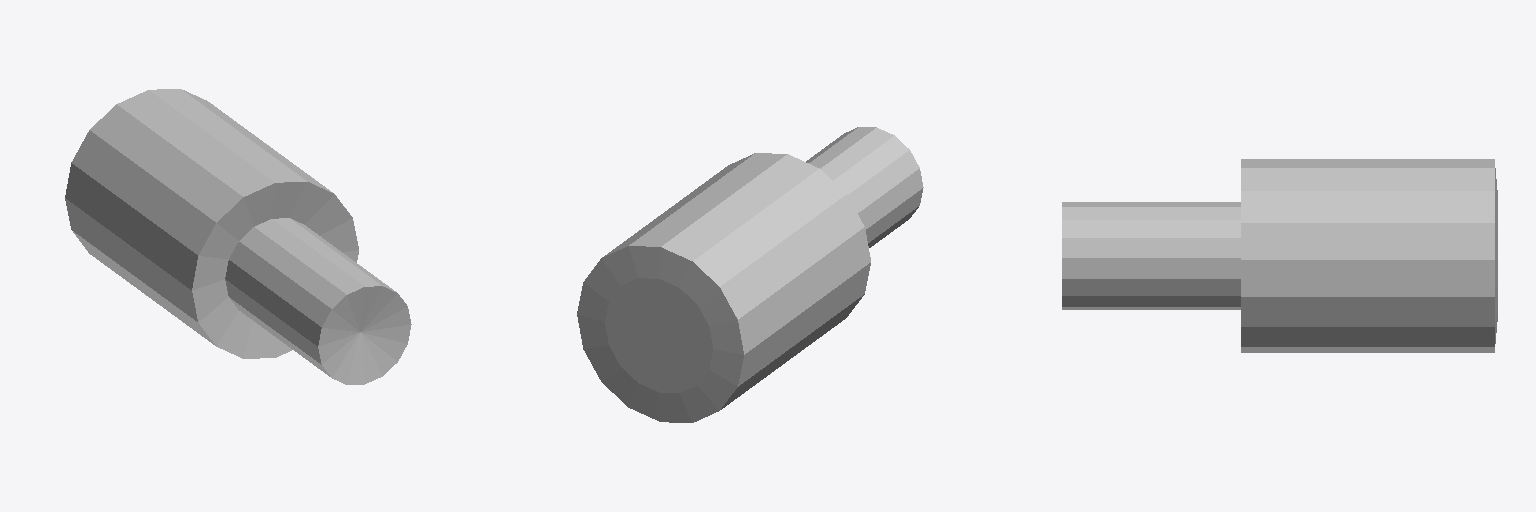
File: PlasmaRifle.obj
3 renders of one model, left to right at view 1: azimuth 30°, elevation 25°; view 2: azimuth 150°, elevation 25°; view 3: azimuth 270°, elevation 25°, orthographic.
Parts seen in each view (by area): view 1: Plasma_Gun_Cylinder; view 2: Plasma_Gun_Cylinder; view 3: Plasma_Gun_Cylinder.
Boxes of the visible parts, <box> form: Plasma_Gun_Cylinder: <box>65,89,411,384</box>; Plasma_Gun_Cylinder: <box>577,127,923,422</box>; Plasma_Gun_Cylinder: <box>1062,159,1497,352</box>.
Size of the model in its own units: 1.23 by 1.23 by 2.78.